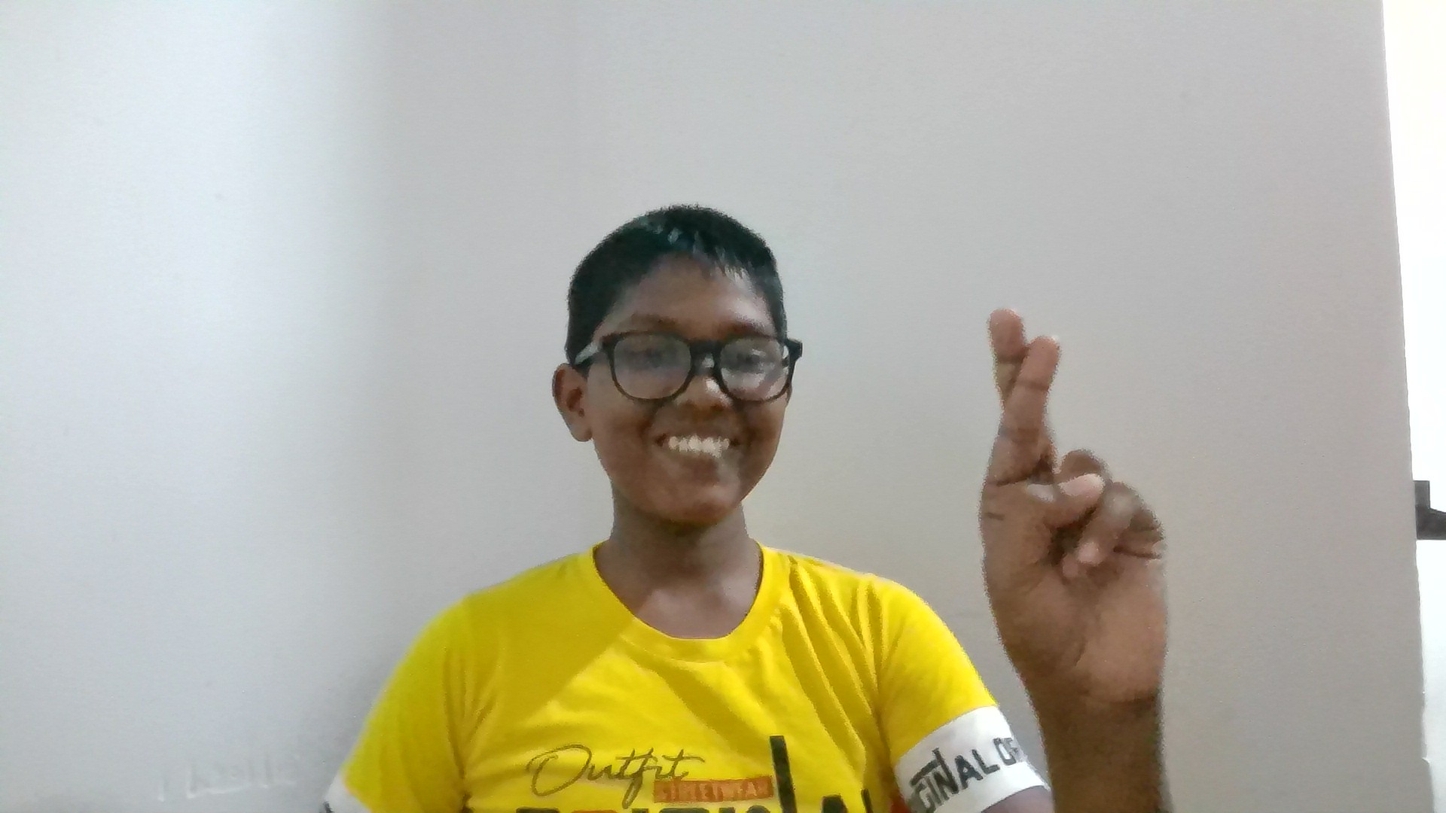Good_Luck: (962, 254, 1263, 720)
